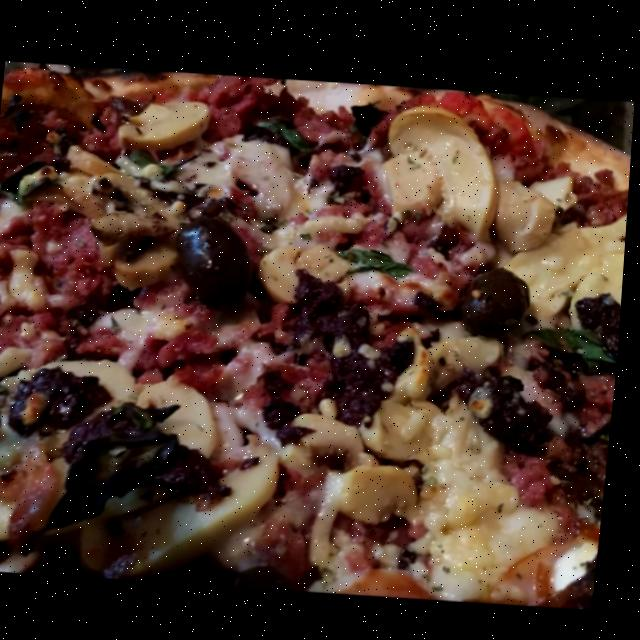basil: (529, 319, 624, 371), (126, 145, 209, 182), (340, 241, 421, 276), (257, 114, 318, 151)
black_olives: (174, 213, 261, 310), (461, 262, 539, 337)
mushrooms: (0, 349, 230, 548), (82, 426, 285, 586), (379, 100, 508, 241), (256, 239, 359, 307), (486, 172, 561, 252), (340, 459, 429, 526), (116, 94, 213, 149), (113, 237, 184, 294)
pizza: (0, 60, 637, 607)
